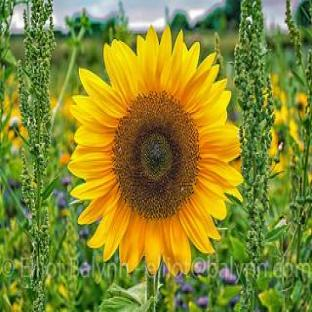sunflower: (66, 25, 244, 273)
